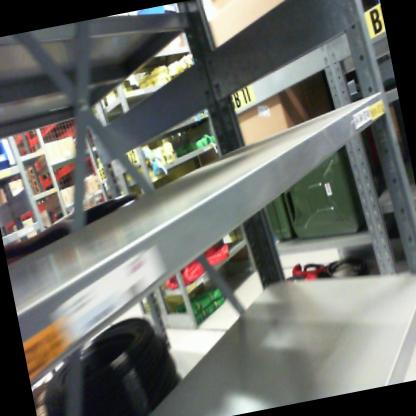pallet: (25, 163, 38, 175), (25, 172, 37, 182), (30, 177, 40, 188), (30, 183, 40, 193)
